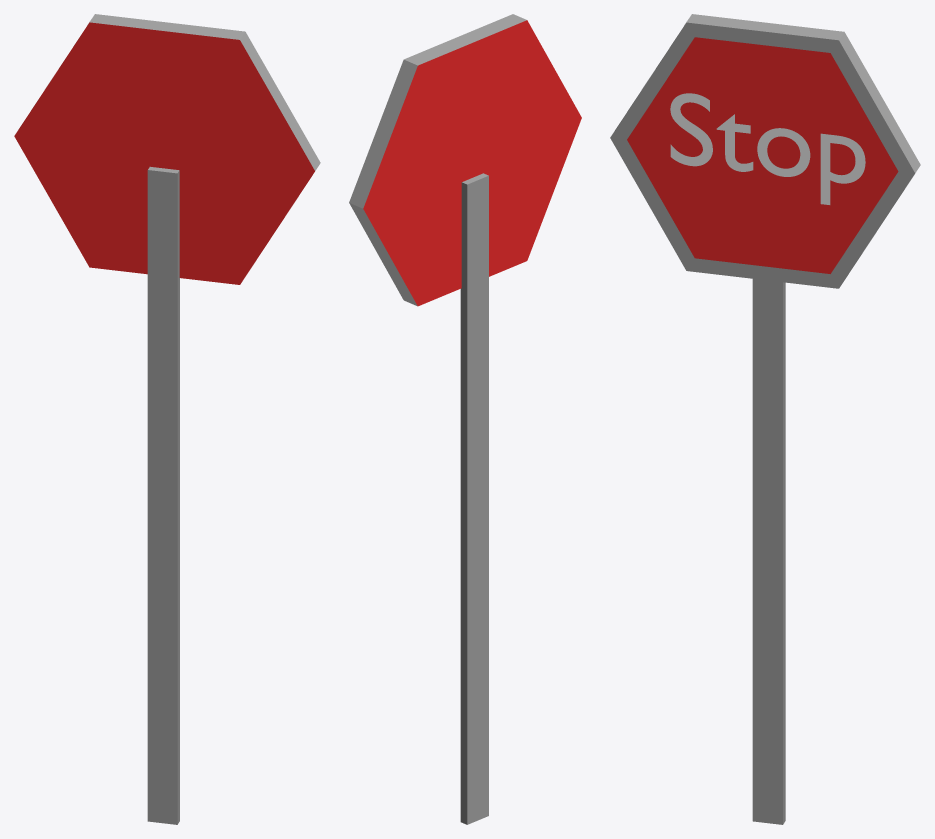
File: stop sign.fbx
The picture shows the model from 3 angles, left to right: view 1: azimuth 90°, elevation 25°; view 2: azimuth 150°, elevation 25°; view 3: azimuth 270°, elevation 25°; orthographic projection. The views are drawn at different scales.
Parts seen in each view (by area): view 1: Object_14; view 2: Object_14; view 3: Object_14, Object_15.
Part boxes in pixels (x1=…): Object_14: x1=14, y1=14, x2=320, y2=824; Object_14: x1=349, y1=14, x2=581, y2=824; Object_14: x1=610, y1=14, x2=920, y2=824; Object_15: x1=670, y1=93, x2=865, y2=204.
Size of the model in its own units: 27.66 by 234 by 82.26.
2 materials, 2 textured.
